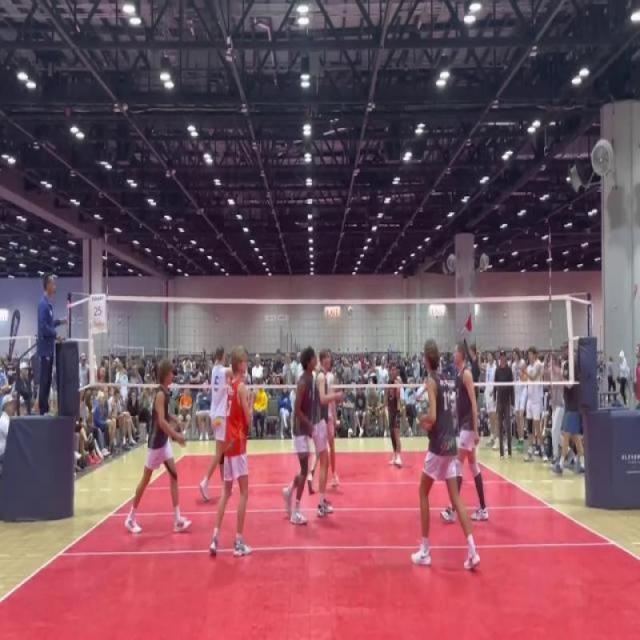volleyball: (346, 303, 354, 318)
